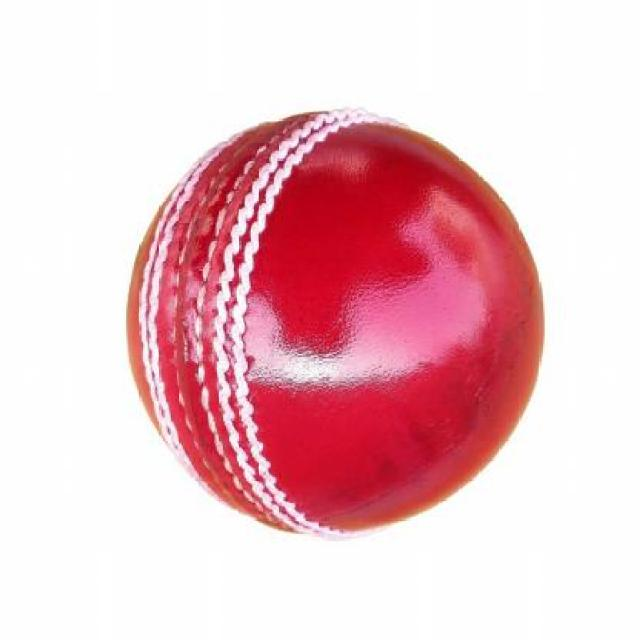ball: (74, 67, 582, 574)
